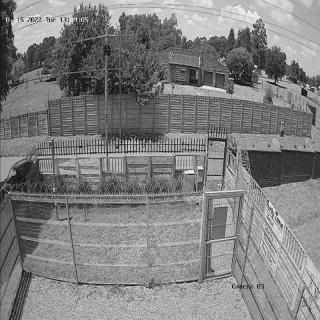car: (0, 157, 38, 199)
